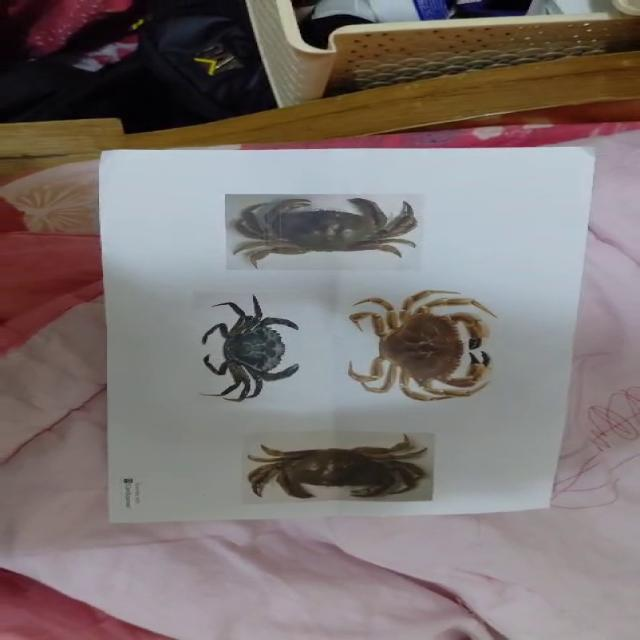egc: (201, 295, 299, 402)
